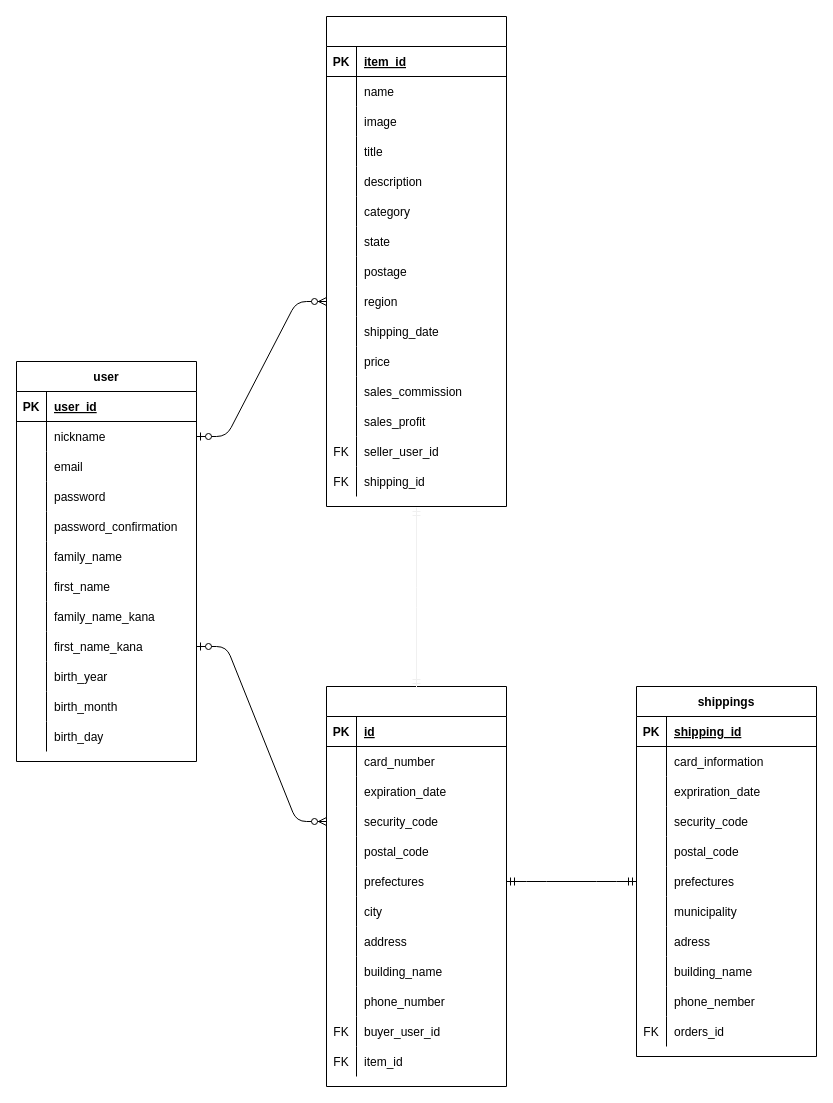
Image size: 833x1103. Some labels were removed from this diagram. The shapes that lost their labels are listed below. From the top down, each one's box as (x1, y1, x2, y2) in pixels, then its label:
(326, 16, 506, 506): items
(326, 686, 506, 1086): orders
